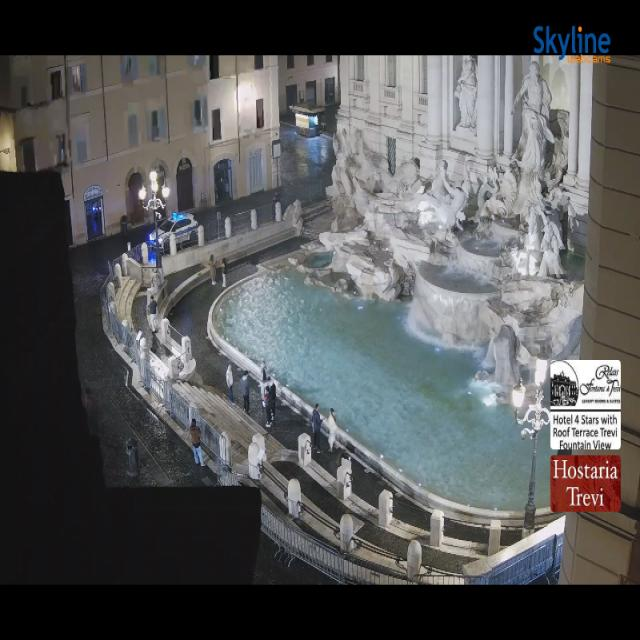person: (190, 419, 204, 467), (85, 388, 99, 435), (312, 404, 322, 451), (240, 371, 249, 414), (328, 409, 337, 451), (268, 377, 276, 419), (148, 296, 157, 332), (263, 392, 271, 428), (226, 364, 233, 403), (260, 360, 267, 396), (209, 255, 215, 284), (221, 258, 226, 288)
